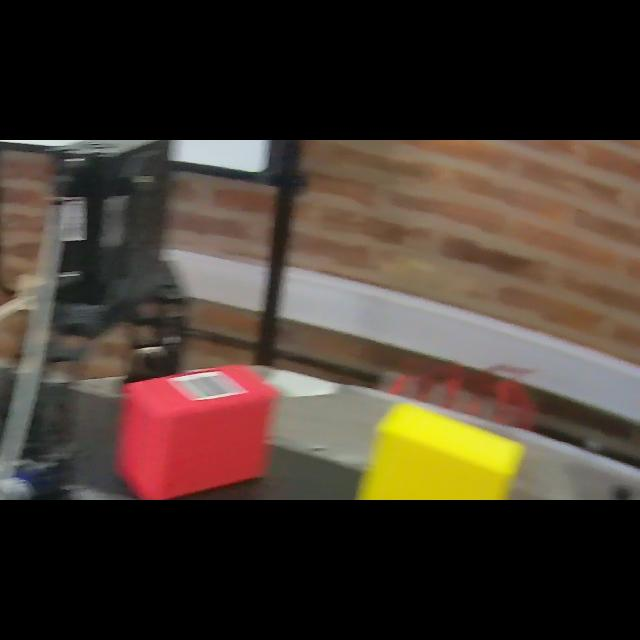redBox: (113, 358, 281, 500)
yellowBox: (356, 396, 530, 500)
